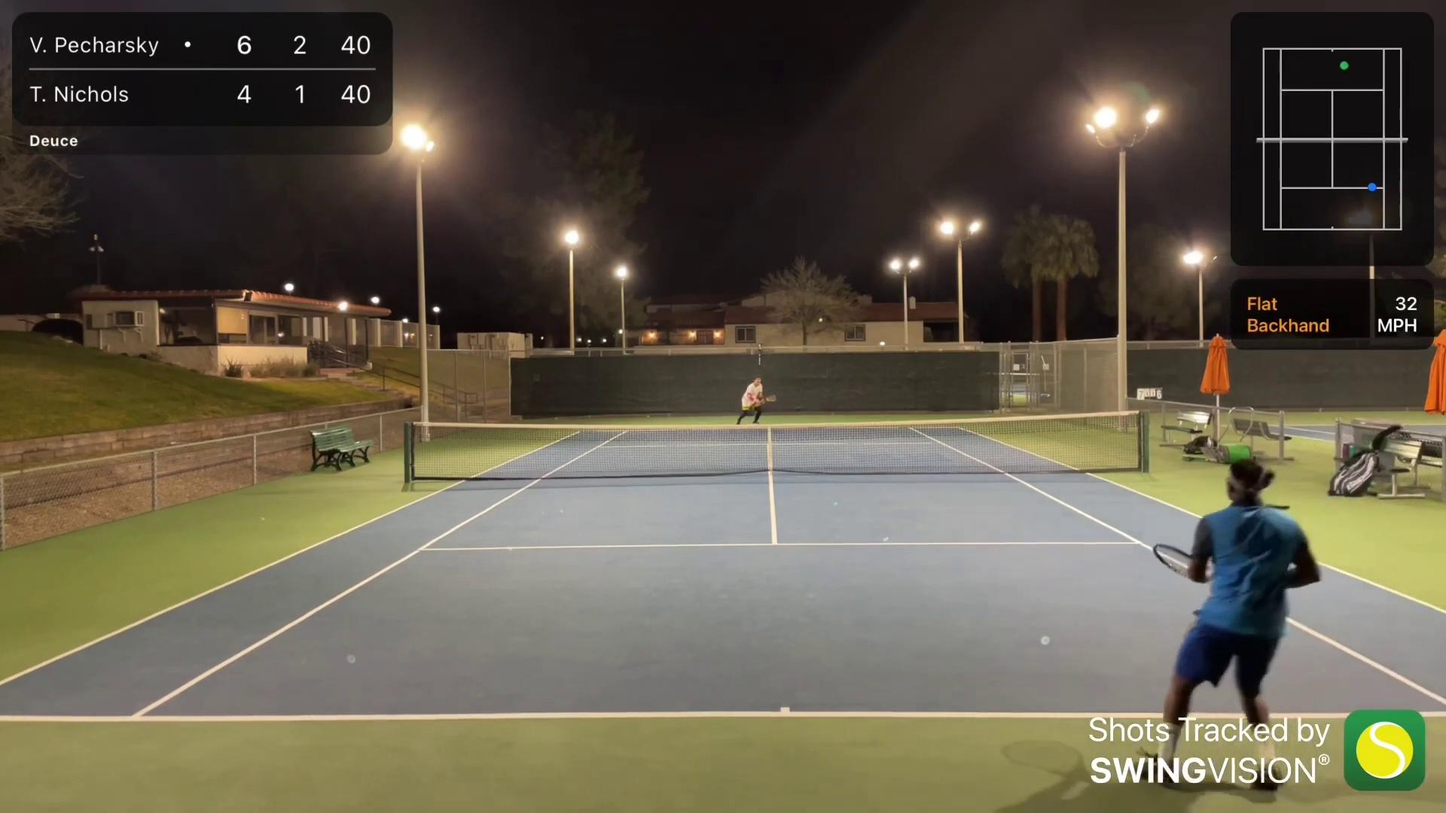ball: (818, 316, 825, 323)
